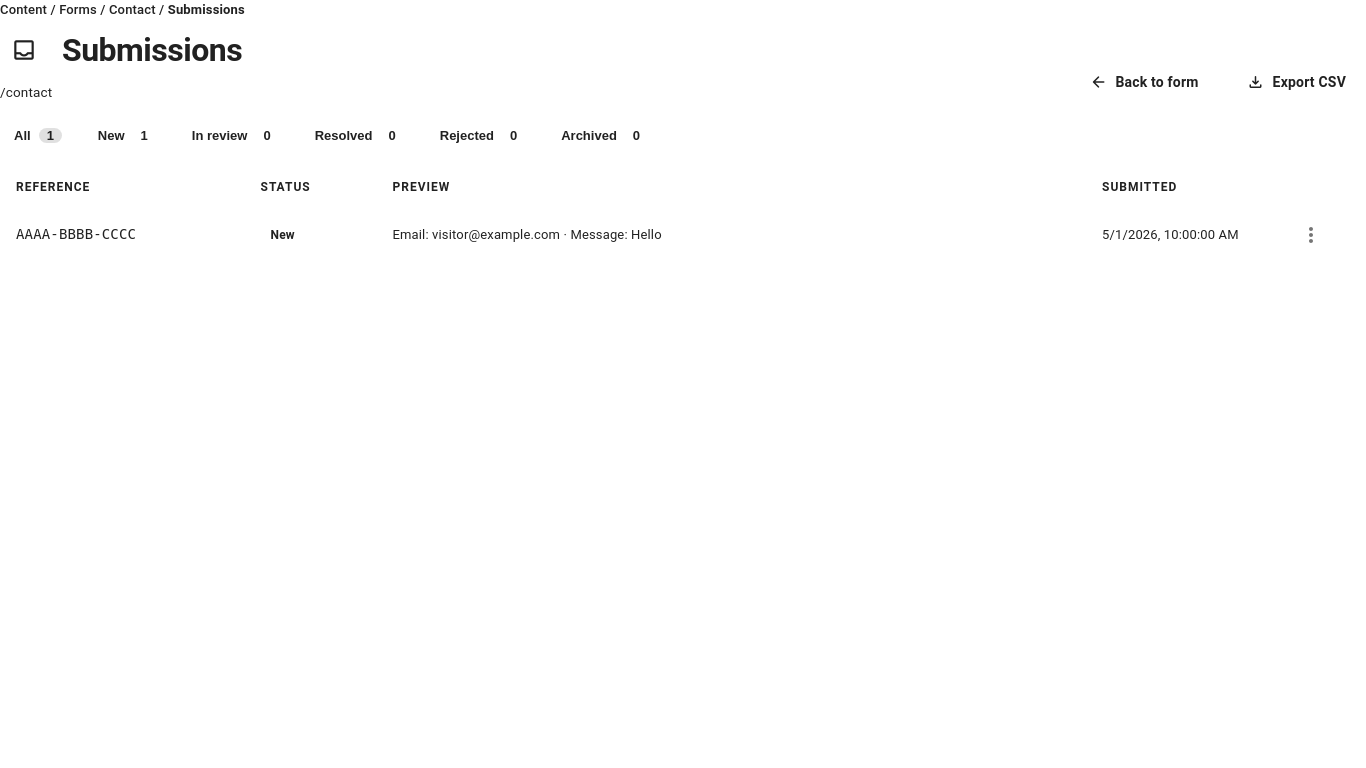
FormSubmissionsPage › shows who created a note (resolved name, not the clerk id)
Click the text "AAAA-BBBB-CCCC": (76, 234) top-left (16, 226), bottom-right (136, 242)
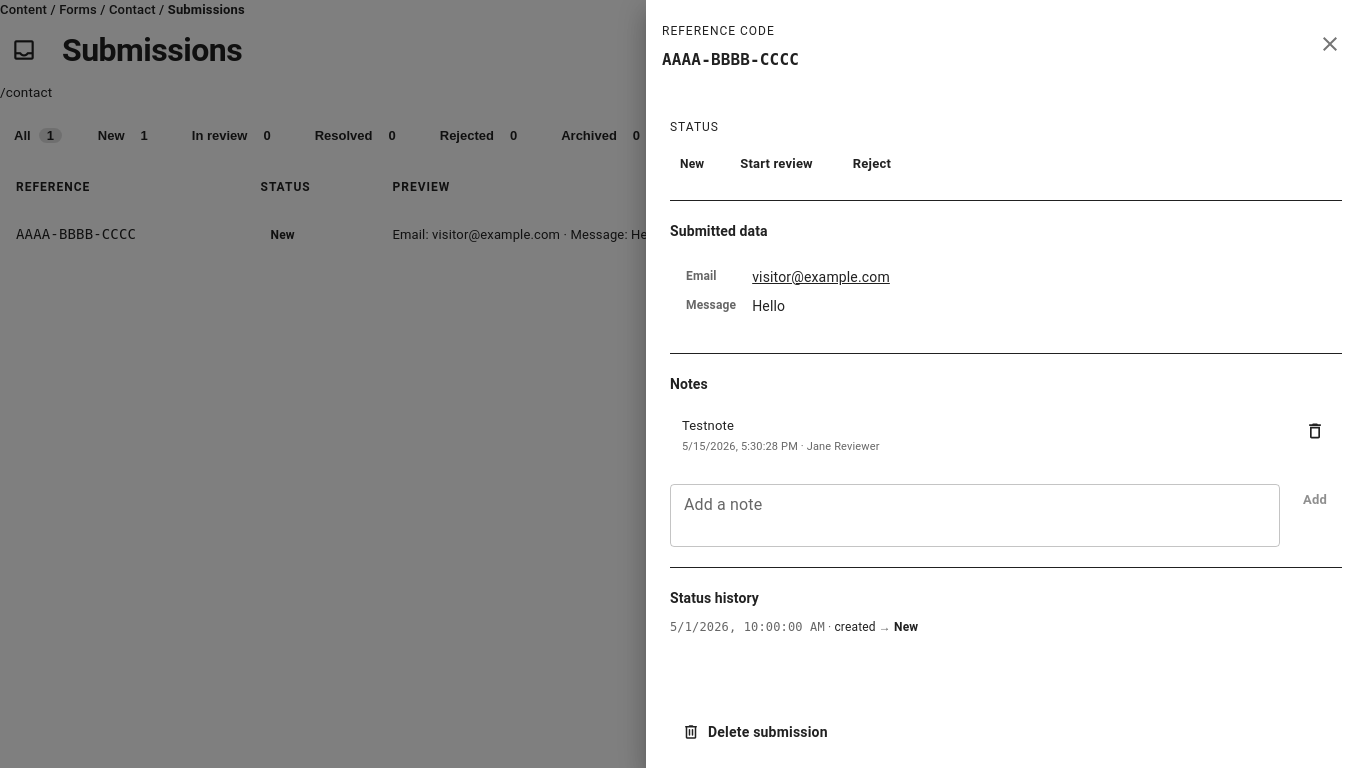
expect the text "5/15/2026, 5:30:28 PM · Jane Reviewer" is shown: met, box top-left (682, 440), bottom-right (880, 453)
